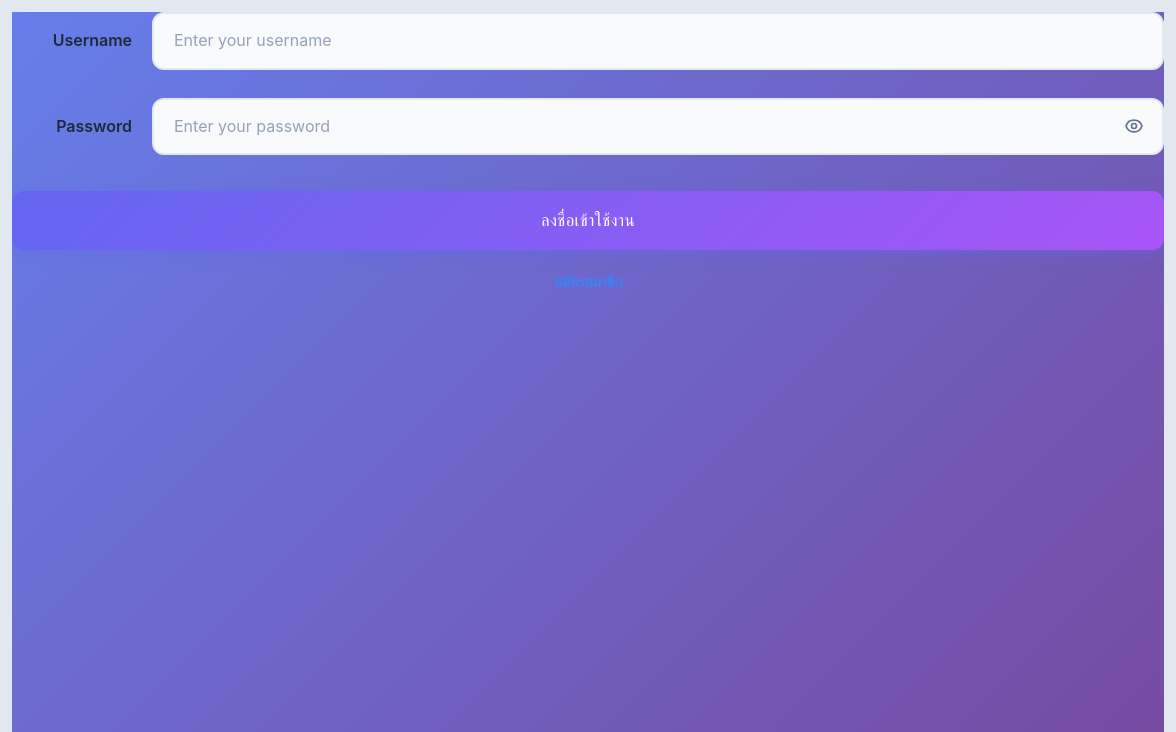
LoginForm › displays error message from failed login
In the field with id "login-username": (658, 41) x1=152 y1=12 x2=1164 y2=70, type "testuser"
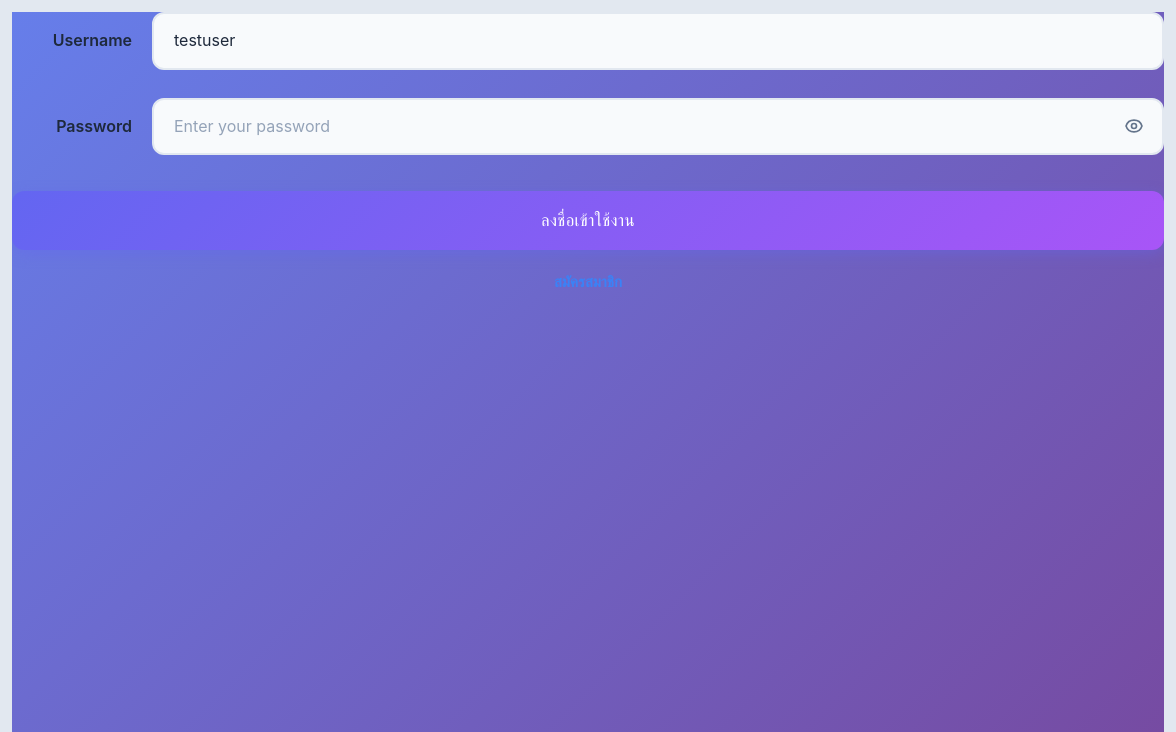
In the password field with id "login-password": (658, 126) x1=152 y1=98 x2=1164 y2=155, type "wrongpass"
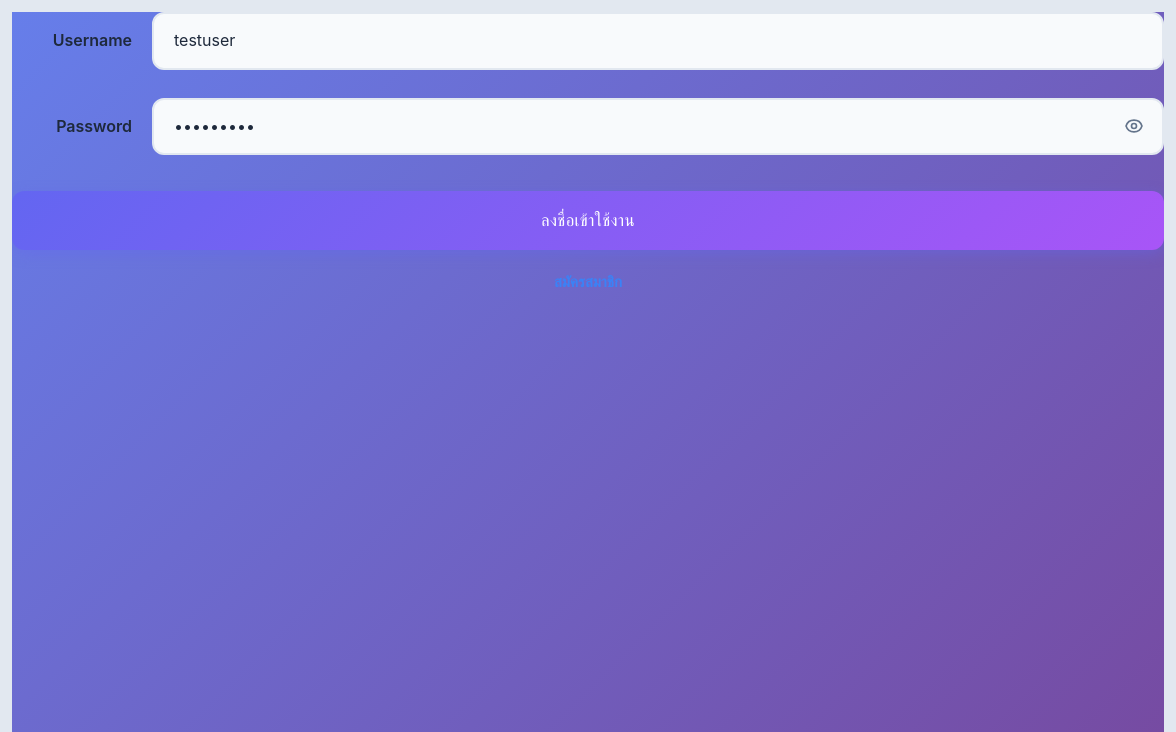
Submit the form, box x1=12 y1=12 x2=1164 y2=294
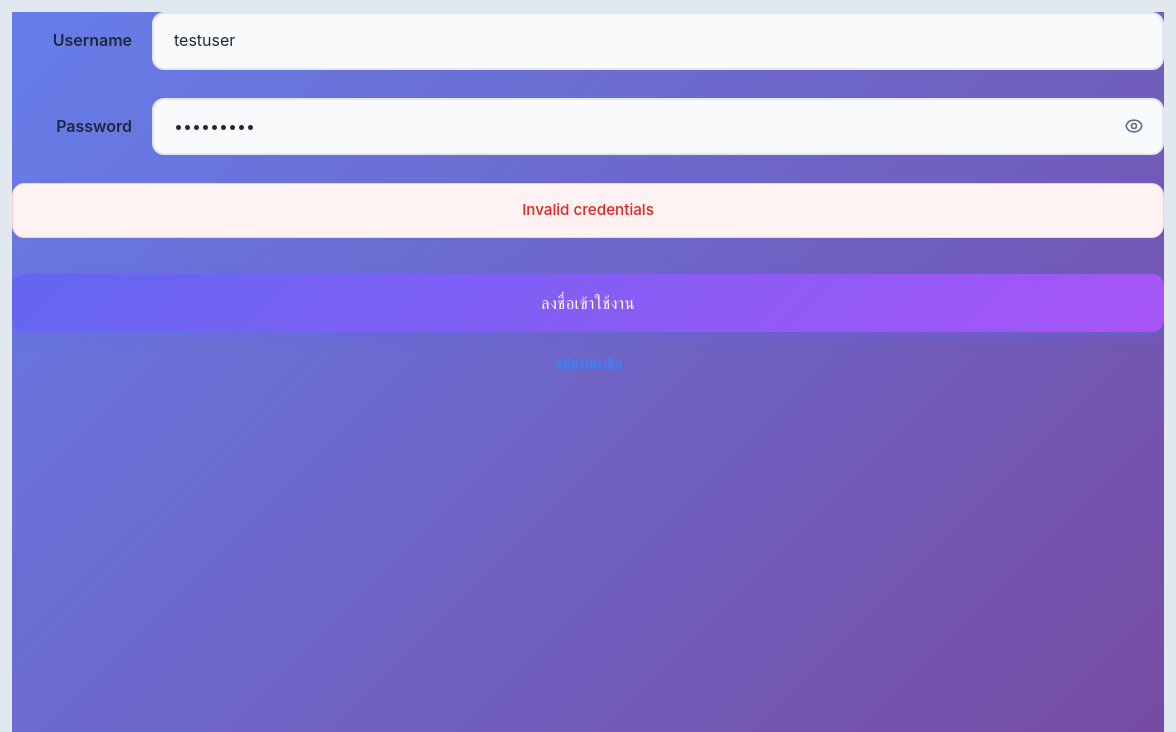
Result: the text "Invalid credentials" is shown at x1=12 y1=183 x2=1164 y2=238
